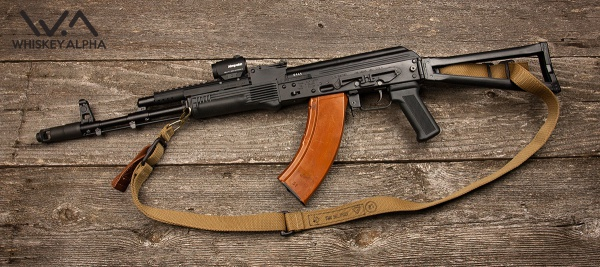ak47: (39, 43, 563, 196)
